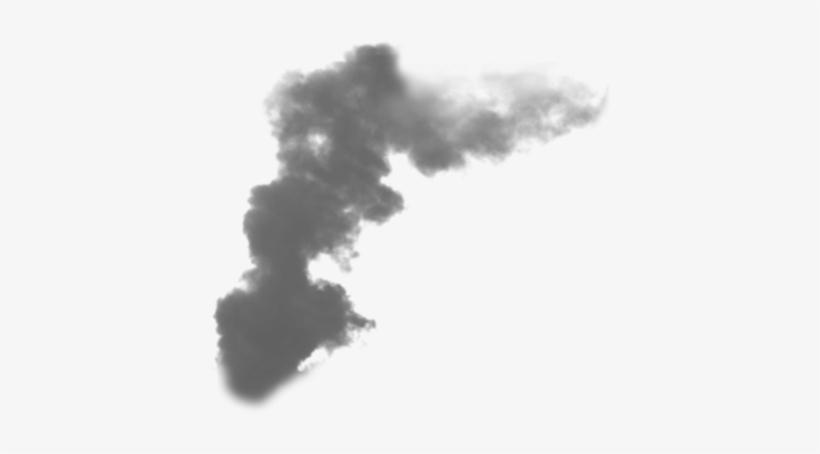Smoke: (218, 49, 618, 396)
